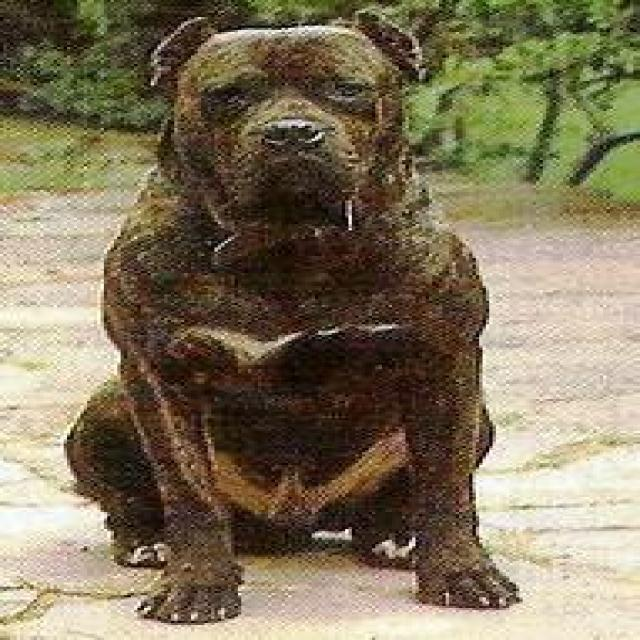dog: (64, 17, 523, 627)
